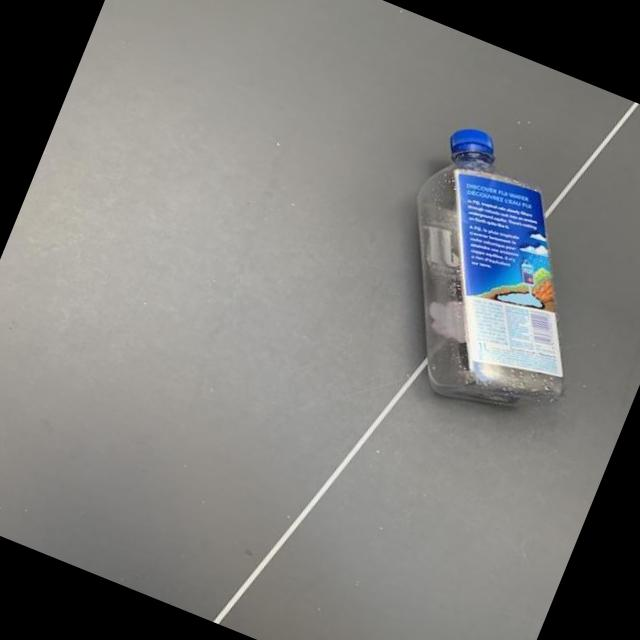BotolPlastik: (349, 114, 640, 437)
